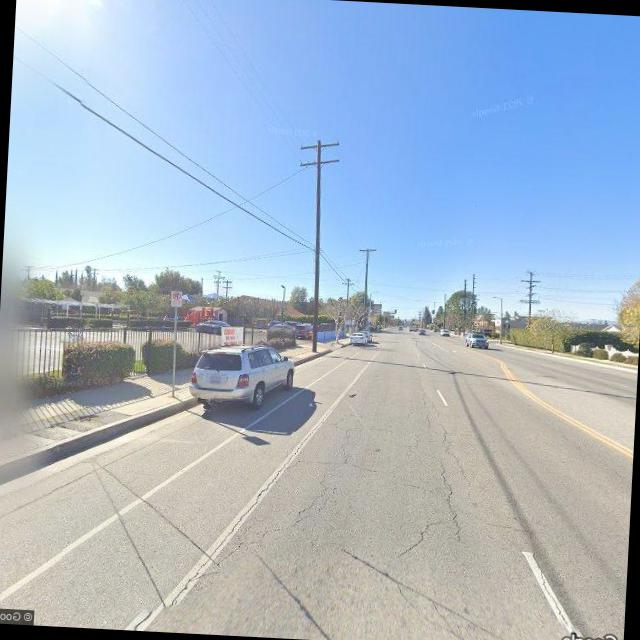crack: (190, 393, 534, 640)
pothole: (152, 389, 338, 628), (534, 560, 588, 640)
